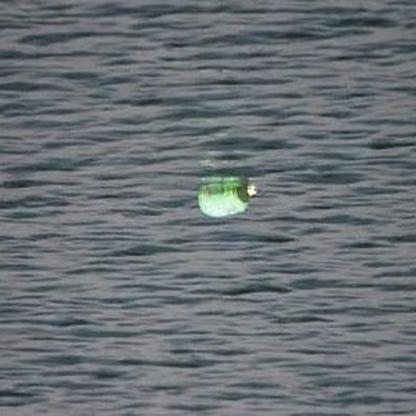plastic bottle: (198, 183, 259, 217)
